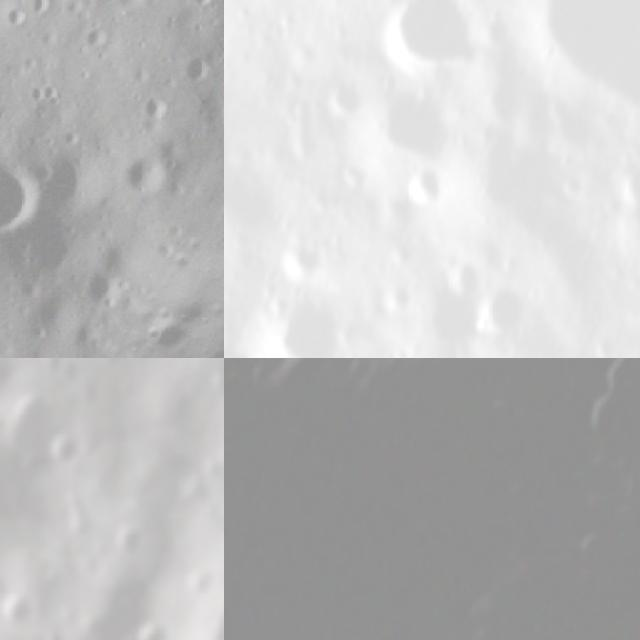crater: (0, 198, 97, 295), (0, 137, 66, 260), (386, 0, 495, 70), (99, 138, 185, 226), (374, 85, 468, 161), (565, 382, 640, 471), (61, 253, 138, 325), (275, 297, 355, 358), (224, 153, 280, 235), (0, 385, 52, 470), (165, 46, 224, 113), (548, 89, 604, 152), (477, 281, 537, 334), (428, 244, 482, 292), (282, 232, 331, 283), (110, 517, 160, 562), (403, 166, 454, 209), (329, 73, 368, 114), (41, 429, 79, 470), (41, 562, 78, 600), (616, 151, 640, 209), (34, 358, 85, 385), (0, 594, 37, 631), (137, 616, 174, 640), (211, 74, 224, 140), (595, 333, 619, 358), (0, 572, 14, 608)
